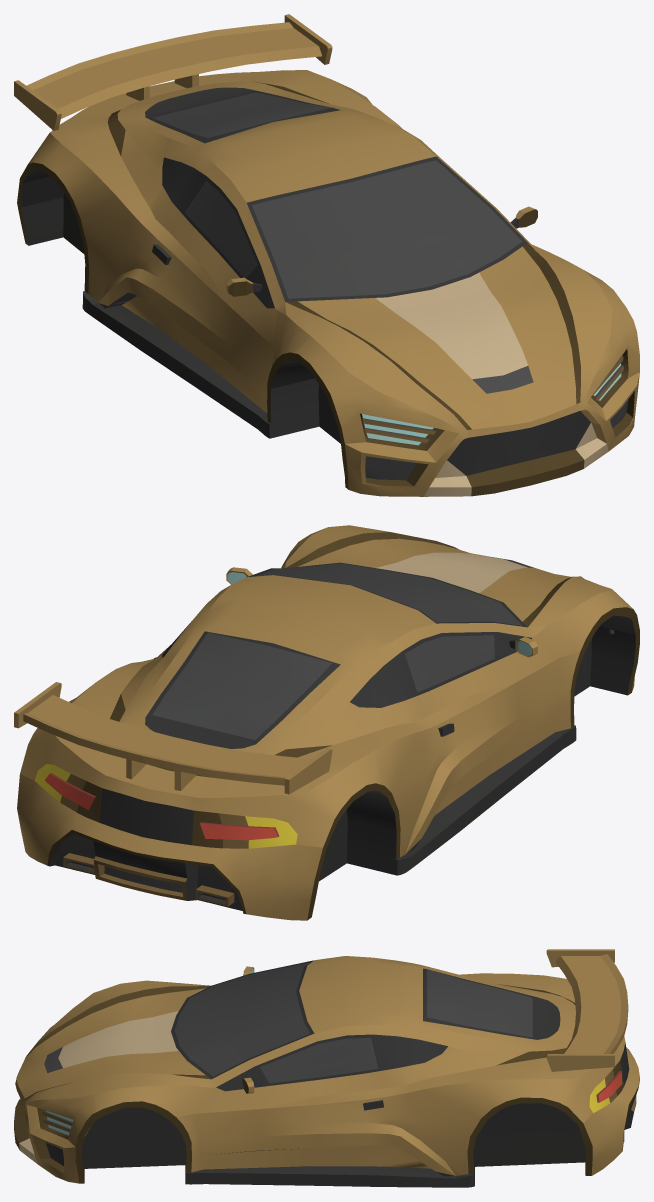
The model's file is CentauriEDT.fbx.
3 views of the same model, one above another, from view 1: azimuth 30°, elevation 25°; view 2: azimuth 150°, elevation 25°; view 3: azimuth 270°, elevation 25° (orthographic). The views are drawn at different scales.
Visible parts, largest first — view 1: Body, Spoiler.001; view 2: Body, Spoiler.001; view 3: Body, Spoiler.001.
Part boxes in pixels (<box>): Body: <box>17,70,639,496</box>; Spoiler.001: <box>14,14,332,130</box>; Body: <box>17,525,639,920</box>; Spoiler.001: <box>14,682,332,794</box>; Body: <box>14,956,639,1187</box>; Spoiler.001: <box>546,949,628,1071</box>.
Bounding box in the file's own units: 214 × 116 × 455.
